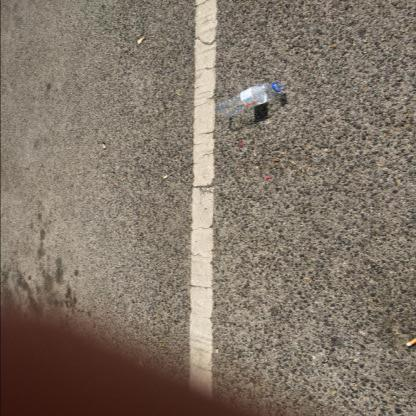Bottle cap: (215, 82, 283, 118)
Cigarette: (406, 337, 415, 346), (163, 175, 168, 179)
